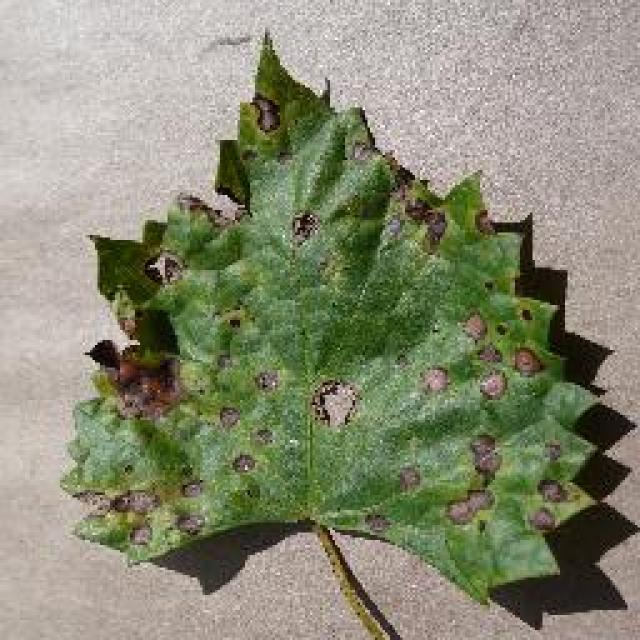Black_rot: (62, 54, 638, 592)
